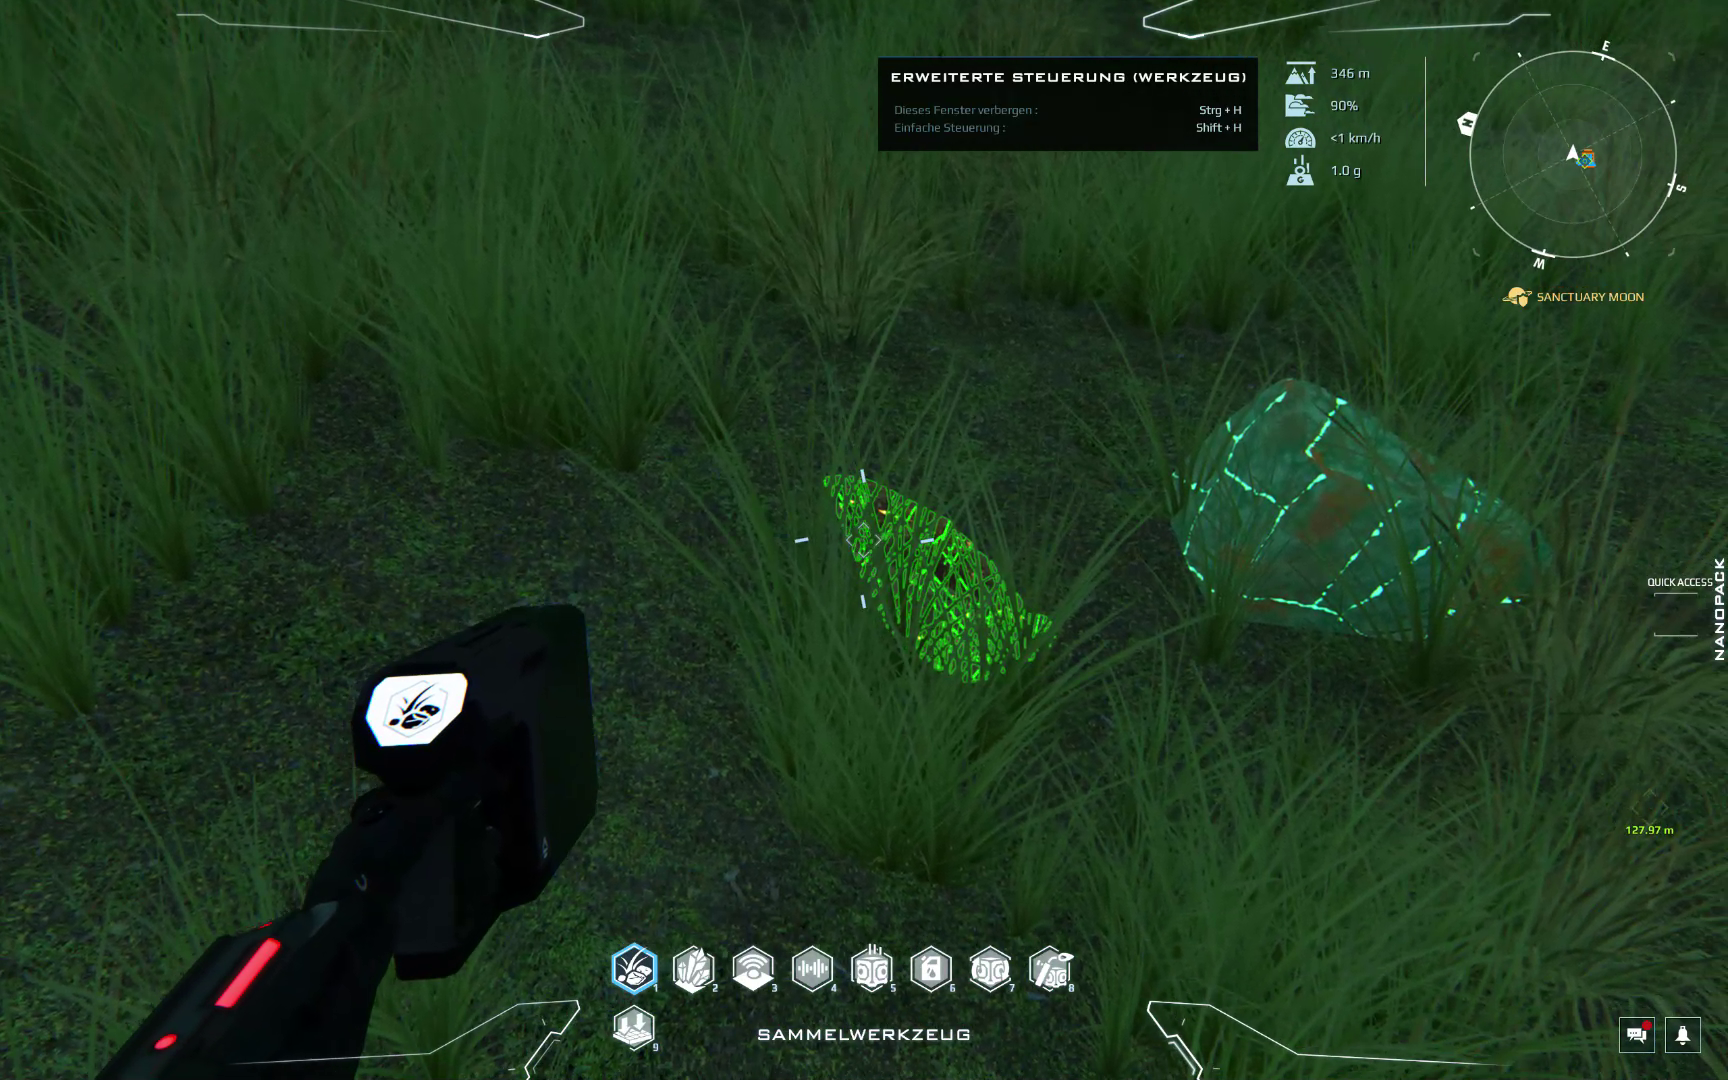Ore: (1156, 378, 1558, 671), (820, 468, 1052, 683)
